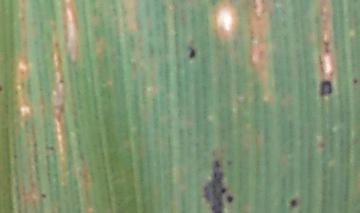tarspot: (200, 157, 227, 213), (317, 79, 334, 98), (185, 45, 196, 59), (288, 198, 298, 209), (225, 194, 234, 204), (351, 77, 359, 86), (224, 159, 233, 167), (38, 192, 47, 199), (209, 1, 219, 7), (58, 78, 66, 85), (12, 153, 19, 160), (1, 83, 4, 95)
